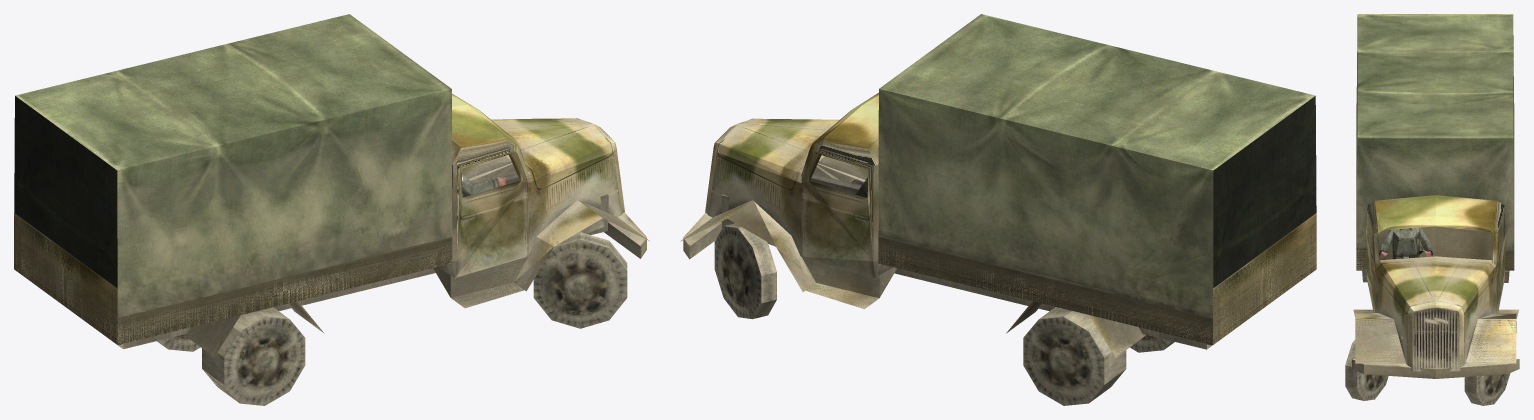
File: junyongkache.DAE
3 renders of one model, left to right at view 1: azimuth 30°, elevation 25°; view 2: azimuth 150°, elevation 25°; view 3: azimuth 270°, elevation 25°, orthographic. The views are drawn at different scales.
Visible parts, largest first — view 1: _2132d68.obj, _1fb6008.obj, _1fb1838.obj, _218cfd0.obj; view 2: _2132d68.obj, _1fb6008.obj, _1fb3bf8.obj, _218cfd0.obj; view 3: _2132d68.obj, _1fb6008.obj, _218cfd0.obj, _201ffb0.obj.
Boxes of the visible parts, x1=… form: _2132d68.obj: x1=14, y1=14, x2=452, y2=344; _1fb6008.obj: x1=118, y1=94, x2=649, y2=356; _1fb1838.obj: x1=202, y1=307, x2=305, y2=405; _218cfd0.obj: x1=533, y1=232, x2=627, y2=328; _2132d68.obj: x1=878, y1=14, x2=1316, y2=344; _1fb6008.obj: x1=680, y1=93, x2=1212, y2=357; _1fb3bf8.obj: x1=1023, y1=307, x2=1126, y2=405; _218cfd0.obj: x1=714, y1=223, x2=776, y2=319; _2132d68.obj: x1=1356, y1=14, x2=1514, y2=270; _1fb6008.obj: x1=1352, y1=195, x2=1519, y2=378; _218cfd0.obj: x1=1345, y1=339, x2=1510, y2=405; _201ffb0.obj: x1=1379, y1=227, x2=1432, y2=259.
Size of the model in its own units: 6.08 by 2.2 by 2.92.
